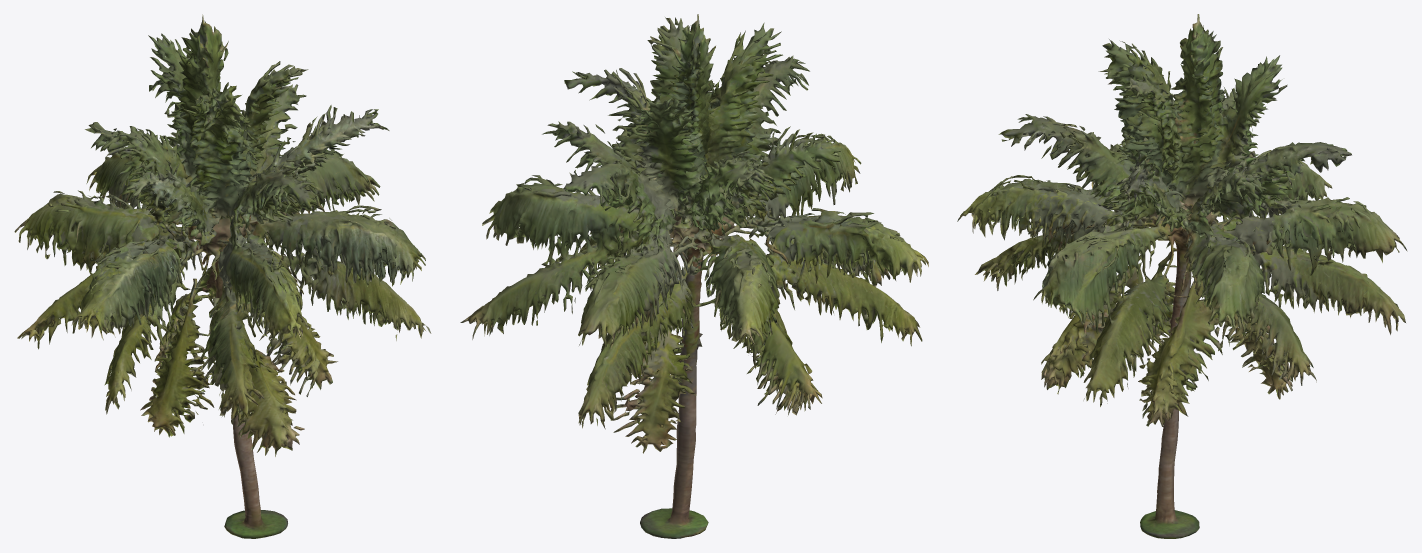
The model's file is coconut.glb.
3 views of the same model, side by side, from view 1: azimuth 30°, elevation 25°; view 2: azimuth 150°, elevation 25°; view 3: azimuth 270°, elevation 25° (orthographic). The views are drawn at different scales.
Bounding box in the file's own units: 1.45 × 1.97 × 1.62.
Materials: 1 (1 with a texture image).
